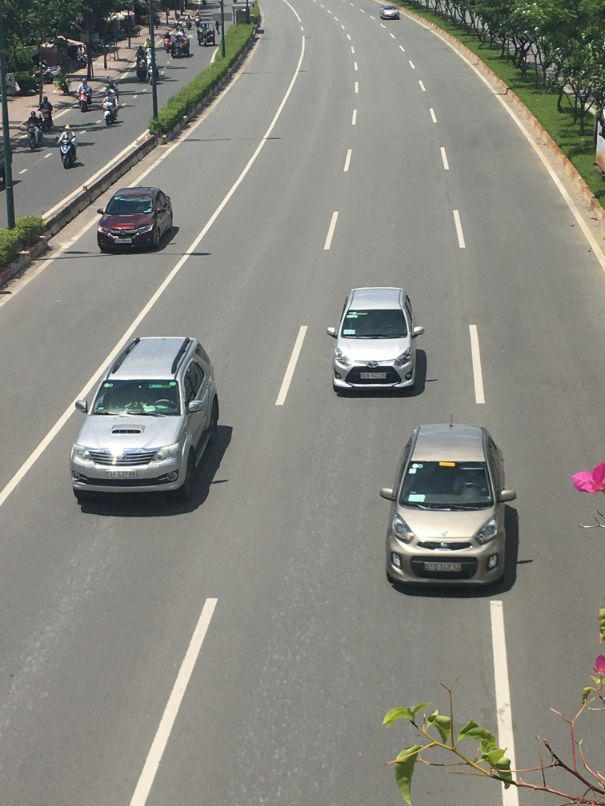car: (69, 335, 230, 510), (381, 420, 522, 591), (331, 285, 428, 397), (97, 185, 178, 254), (381, 8, 400, 22)
motorbike: (57, 130, 80, 173), (26, 118, 43, 148)
